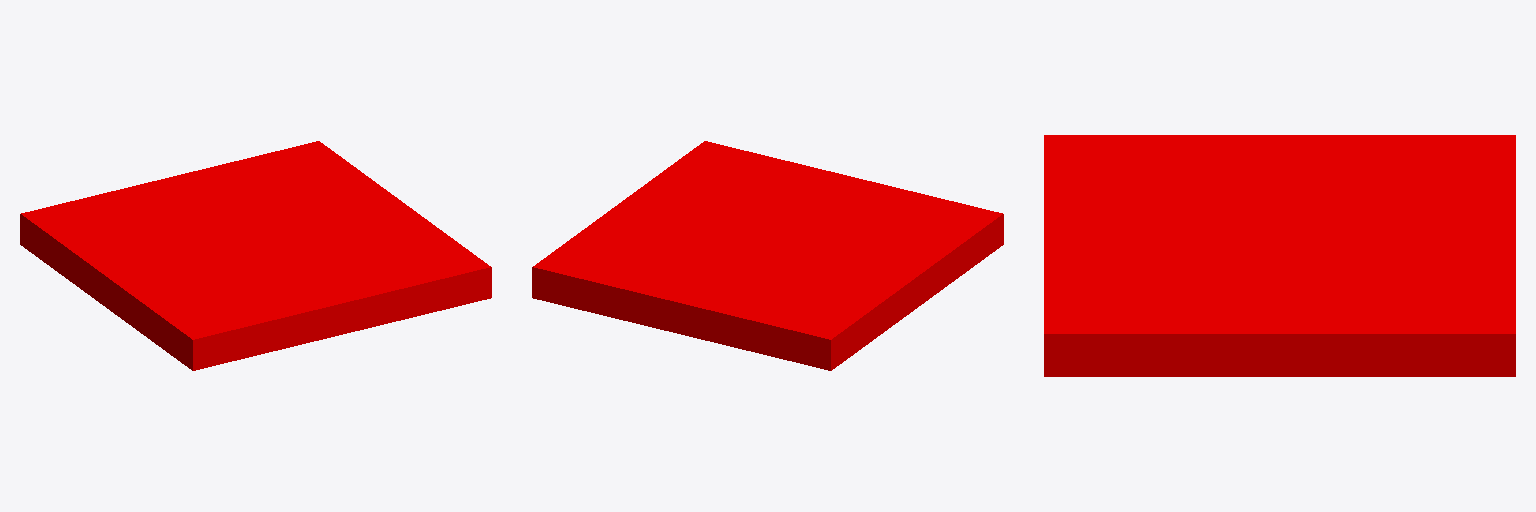
URDF robot description (rail_curseur):
<?xml version="1.0"?>
<!--
  rail_curseur.urdf
  =================
  Curseur rouge (carriage) qui glisse sur le rail.
  Spawné comme entité séparée, déplacé par rail_mover via gz service set_pose.
  Position de spawn : x=0, y=-0.85+rail_position, z=1.03
-->
<robot name="rail_curseur">
  <link name="base">
    <visual>
      <origin xyz="0 0 0"/>
      <geometry><box size="0.2 0.2 0.02"/></geometry>
      <material name="red"><color rgba="1 0 0 1.0"/></material>
    </visual>
    <collision>
      <origin xyz="0 0 0"/>
      <geometry><box size="0.2 0.2 0.02"/></geometry>
    </collision>
    <inertial>
      <mass value="1.0"/>
      <inertia ixx="0.00337" iyy="0.00337" izz="0.00667" ixy="0" ixz="0" iyz="0"/>
    </inertial>
  </link>
</robot>

--- Render facts (derived) ---
The picture shows the robot from 3 angles, left to right: view 1: azimuth 30°, elevation 25°; view 2: azimuth 150°, elevation 25°; view 3: azimuth 270°, elevation 25°; orthographic projection.
Robot: rail_curseur — 1 links, 0 joints (none); root link base; default pose: every joint at zero.
Links seen in each view (by area): view 1: base; view 2: base; view 3: base.
Link boxes in pixels (x1,y1,x2,y2): base: (20, 141, 491, 370); base: (532, 141, 1003, 370); base: (1044, 135, 1515, 376).
Size in the robot's own frame: 0.2 by 0.2 by 0.02 metres.
Geometry: primitives only (box / cylinder / sphere), no mesh files.
